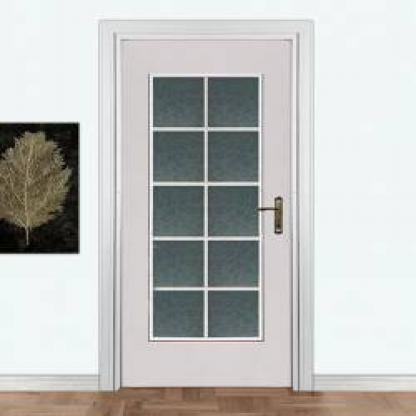door: (118, 38, 290, 386)
